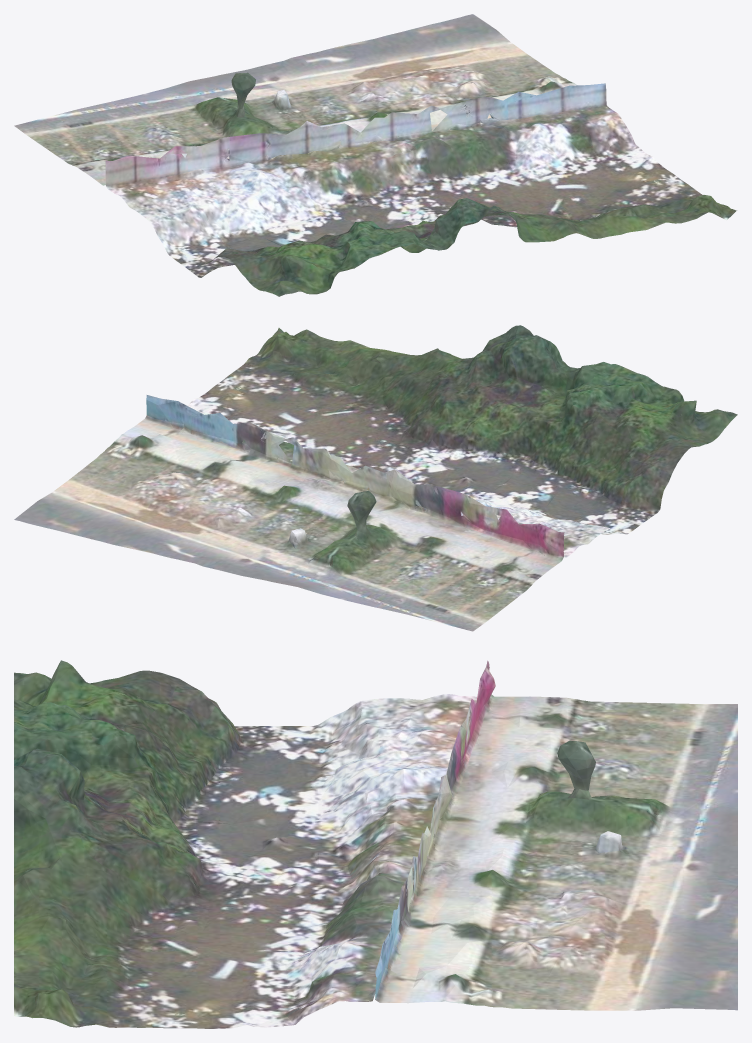
The model's file is Tile_+002_+003_L21_0001100.glb.
3 renders of one model, top to bottom at view 1: azimuth 30°, elevation 25°; view 2: azimuth 150°, elevation 25°; view 3: azimuth 270°, elevation 25°, orthographic. The views are drawn at different scales.
Parts seen in each view (by area): view 1: rtc; view 2: rtc; view 3: rtc.
Boxes of the visible parts, x1,y1,x2,y2 form: rtc: (14,14,736,296); rtc: (14,325,737,631); rtc: (14,660,737,1028).
Bounding box in the file's own units: 25.63 × 4.24 × 25.63.
1 material, 1 textured.
